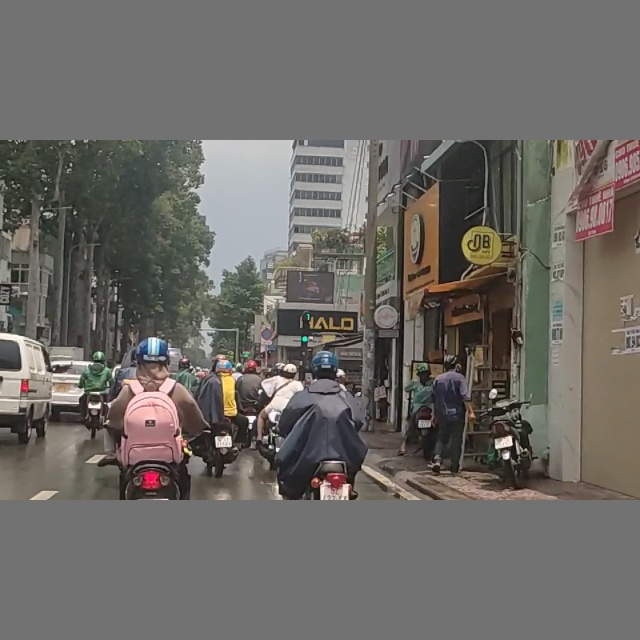P.131a: (259, 327, 274, 341)
